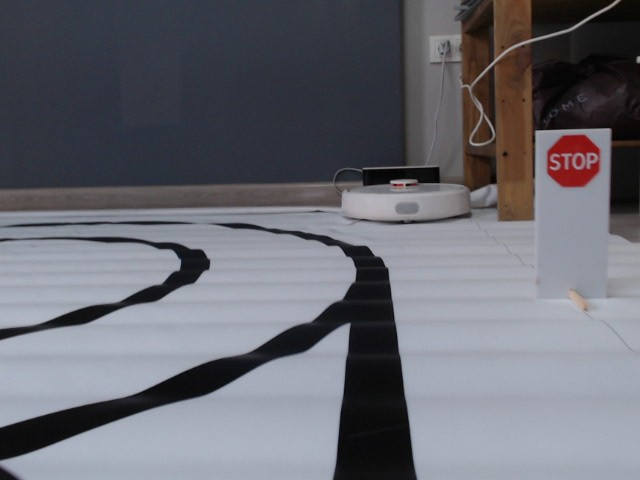Stop: (546, 133, 602, 190)
